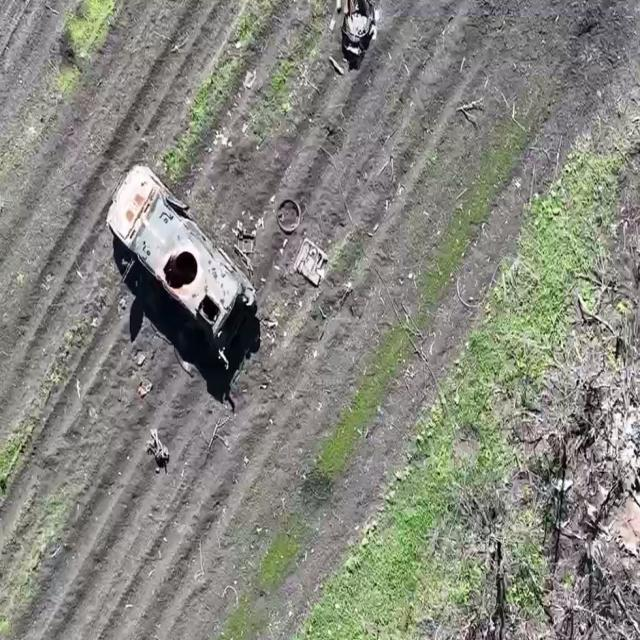Vehicle: (107, 160, 256, 369)
